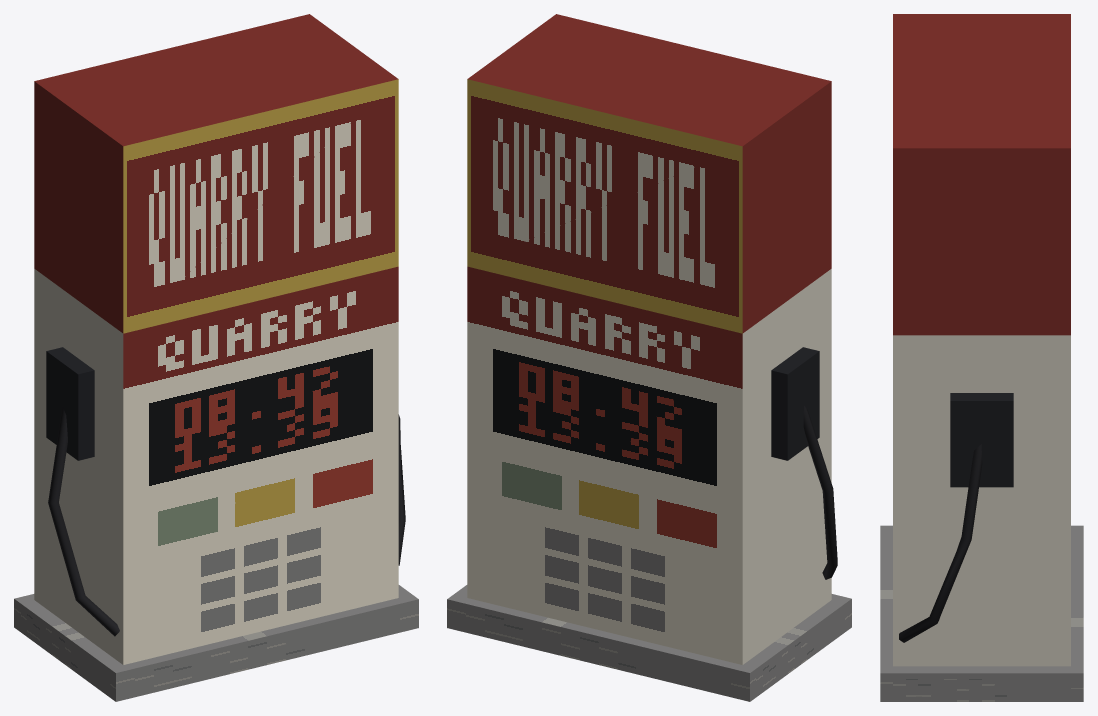
Rendered from COM_FuelPump.glb.
3 renders of one model, left to right at view 1: azimuth 30°, elevation 25°; view 2: azimuth 150°, elevation 25°; view 3: azimuth 270°, elevation 25°, orthographic.
Visible parts, largest first — view 1: COM_FuelPump_Mesh; view 2: COM_FuelPump_Mesh; view 3: COM_FuelPump_Mesh.
Part boxes in pixels (x1,y1,x2,y2): COM_FuelPump_Mesh: (14,14,418,701); COM_FuelPump_Mesh: (447,14,851,701); COM_FuelPump_Mesh: (880,14,1083,701).
Size of what is drawn, in the model's own units: 1.27 by 1.9 by 0.64.
1 material, 1 textured.
